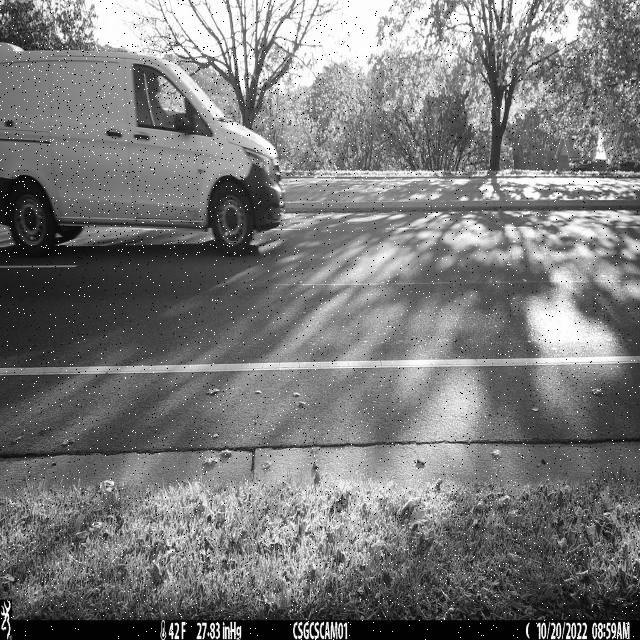Van: (0, 42, 285, 257)
